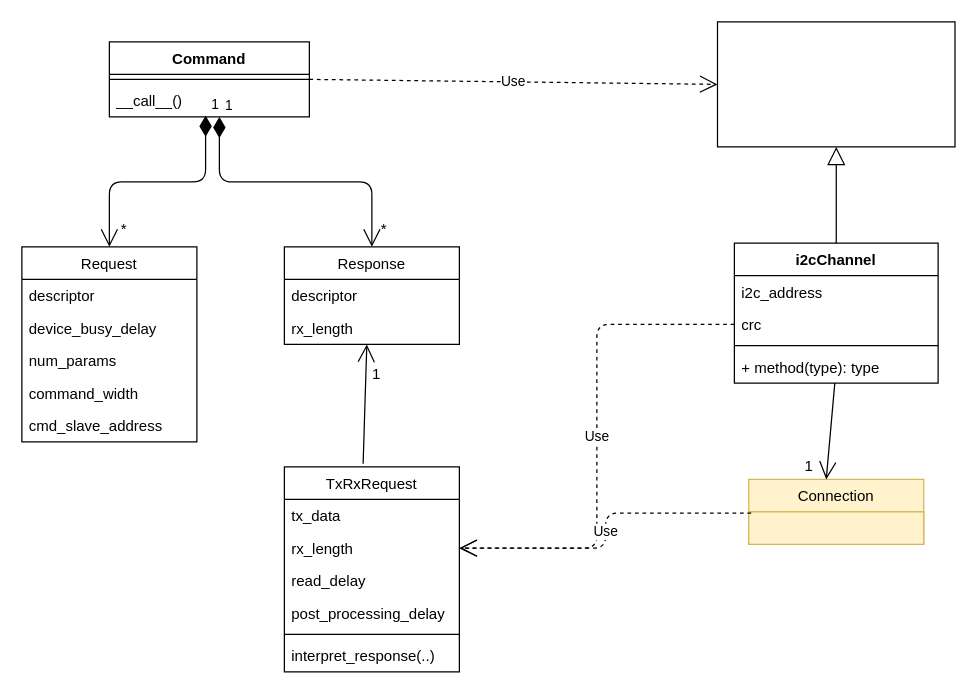
The diagram is 978 pixels wide and 698 high, and some of its shapes have lost their labels. The centre of each missing label's shape, as x and y in pixels:
"<<Interface>> TxRxChannel write_read() strip_protocol()" belongs at (835,84).
"execute(adress, request)" belongs at (836,527).
